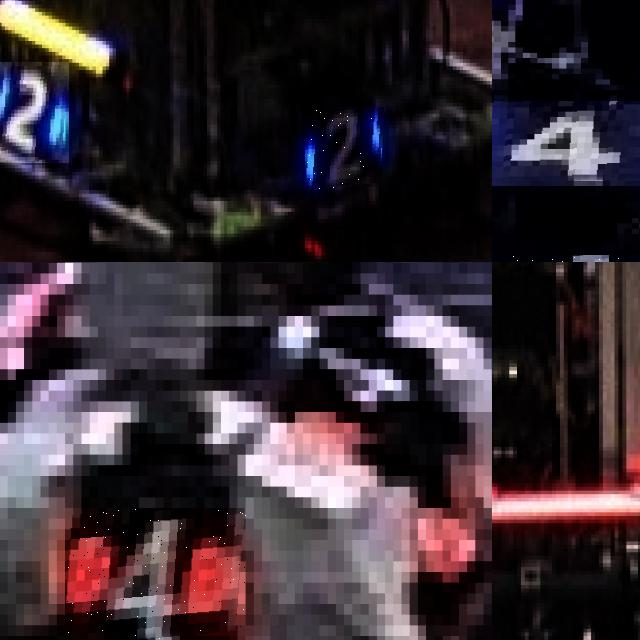B2: (0, 62, 69, 164), (305, 107, 385, 190)
B4: (492, 100, 640, 186)
R4: (65, 508, 245, 640)
